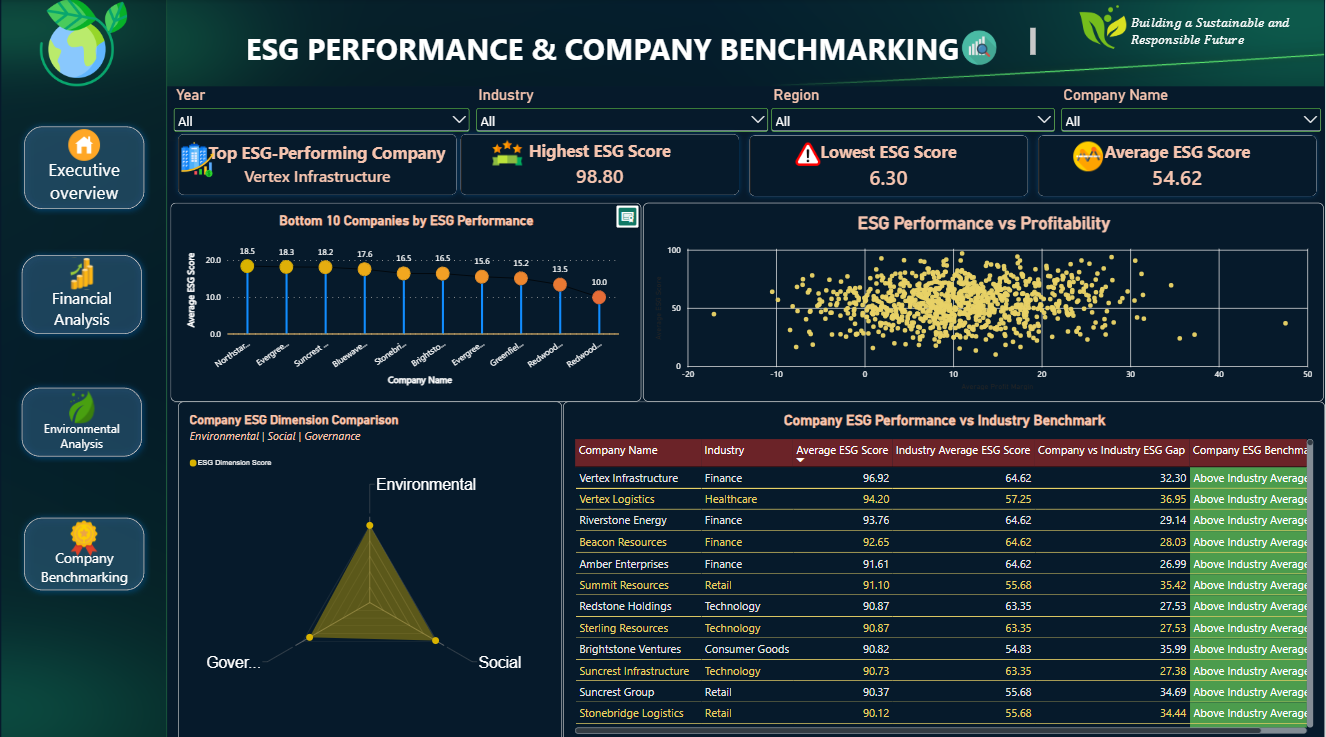

This screenshot's page, from the dashboard's own definition file:
{"tool":"powerbi","page":{"name":"Company-Level Performance & Benchmarking","canvas":[1920,1080],"ordinal":3},"visuals":[{"type":"actionButton","box":[52.5,168.3,135.7,144.8],"z":0},{"type":"image","box":[130.3,0,1789.8,126.7],"z":1000},{"type":"image","box":[0,0,249.7,1080.4],"z":3000},{"type":"image","box":[59.7,0,128.5,126.7],"z":4000},{"type":"actionButton","box":[29,175.5,191.8,137.5],"z":5000},{"type":"actionButton","box":[25.3,361.9,191.8,132.1],"z":6000},{"type":"actionButton","box":[25.3,553.8,191.8,117.6],"z":7000},{"type":"actionButton","box":[29,742,191.8,123.1],"z":8000},{"type":"textbox","box":[1639.6,19.9,240.7,59.7],"z":9000},{"type":"image","box":[1559.9,9,79.6,63.3],"z":10000},{"type":"slicer","fields":{"Values":["Year_Dimension.Year"]},"box":[249.7,126.7,437.9,77.8],"z":11000},{"type":"slicer","fields":{"Values":["ESG_Company_Data.Region"]},"box":[1114.8,126.7,419.8,72.4],"z":12000},{"type":"slicer","fields":{"Values":["ESG_Company_Data.Industry"]},"box":[687.7,126.7,432.5,76],"z":13000},{"type":"slicer","fields":{"Values":["ESG_Company_Data.Company Name"]},"box":[1534.6,126.7,385.5,67],"z":14000},{"type":"textbox","box":[358.3,41.6,1143.7,54.3],"z":26001},{"type":"image","box":[1393.4,41.6,54.3,57.9],"z":26002},{"type":"cardVisual","fields":{"Data":["ESG_Company_Data.Top ESG-Performing Company"]},"box":[249.7,184.6,425.3,110.4],"z":26003},{"type":"cardVisual","fields":{"Data":["ESG_Company_Data.Highest ESG Score"]},"box":[658.7,184.6,425.3,110.4],"z":26004},{"type":"cardVisual","fields":{"Data":["ESG_Company_Data.Lowest ESG Score"]},"box":[1076.7,186.4,425.3,110.4],"z":26005},{"type":"cardVisual","fields":{"Data":["ESG_Company_Data.Average ESG Score"]},"box":[1494.8,186.4,425.3,110.4],"z":26006},{"type":"image","box":[262.4,204.5,52.5,56.1],"z":26007},{"type":"image","box":[709.4,200.9,56.1,43.4],"z":26008},{"type":"image","box":[1154.6,188.2,36.2,72.4],"z":26009},{"type":"image","box":[1552.7,206.3,50.7,43.4],"z":26010},{"type":"lollipopChart50393786178B4137A75F3257CB590B96","title":"Bottom 10 Companies by ESG Performance","fields":{"category":["ESG_Company_Data.Company Name"],"measure":["ESG_Company_Data.Average ESG Score"]},"box":[249.1,294.3,681.3,288.2],"z":26011},{"type":"RadarChart1446119667547","title":"Company ESG Dimension Comparison","fields":{"Category":["ESG_Dimensions.ESG Dimension"],"Y":["ESG_Dimensions.ESG Dimension Score"]},"box":[261.4,582.5,555.7,498.1],"z":26012},{"type":"tableEx","title":"Company ESG Performance vs Industry Benchmark","fields":{"Values":["ESG_Company_Data.Company Name","ESG_Company_Data.Industry","ESG_Company_Data.Average ESG Score","ESG_Company_Data.Industry Average ESG Score","ESG_Company_Data.Company vs Industry ESG Gap","ESG_Company_Data.Company ESG Benchmark Status"]},"box":[817.2,582.5,1103.3,498.1],"z":26013},{"type":"scatterChart","title":"ESG Performance vs Profitability","fields":{"Category":["ESG_Company_Data.Company Name"],"X":["ESG_Company_Data.Average Profit Margin"],"Y":["ESG_Company_Data.Average ESG Score"]},"box":[934.5,294.3,985.9,288.2],"z":26014}]}

Visuals, with their boxes in screenshot pixels (x1, y1, x2, y2), scaled from the page's 1920x1080 canvas onto the 1326x737 screenshot:
actionButton: 36/115/130/214
image: 90/0/1325/86
image: 0/0/172/736
image: 41/0/130/86
actionButton: 20/120/152/214
actionButton: 17/247/150/337
actionButton: 17/378/150/458
actionButton: 20/506/152/590
textbox: 1132/14/1299/54
image: 1077/6/1132/49
slicer - Year_Dimension.Year: 172/86/475/140
slicer - ESG_Company_Data.Region: 770/86/1060/136
slicer - ESG_Company_Data.Industry: 475/86/774/138
slicer - ESG_Company_Data.Company Name: 1060/86/1325/132
textbox: 247/28/1037/65
image: 962/28/1000/68
cardVisual - ESG_Company_Data.Top ESG-Performing Company: 172/126/466/201
cardVisual - ESG_Company_Data.Highest ESG Score: 455/126/749/201
cardVisual - ESG_Company_Data.Lowest ESG Score: 744/127/1037/203
cardVisual - ESG_Company_Data.Average ESG Score: 1032/127/1325/203
image: 181/140/217/178
image: 490/137/529/167
image: 797/128/822/178
image: 1072/141/1107/170
"Bottom 10 Companies by ESG Performance" lollipopChart50393786178B4137A75F3257CB590B96: 172/201/643/398
"Company ESG Dimension Comparison" RadarChart1446119667547: 181/398/564/736
"Company ESG Performance vs Industry Benchmark" tableEx: 564/398/1325/736
"ESG Performance vs Profitability" scatterChart: 645/201/1325/398
